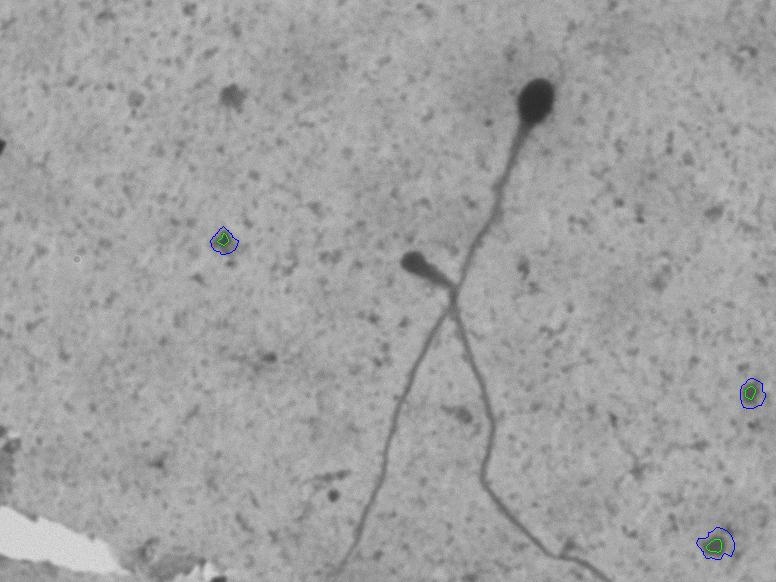Abnormal: (331, 55, 586, 564)
